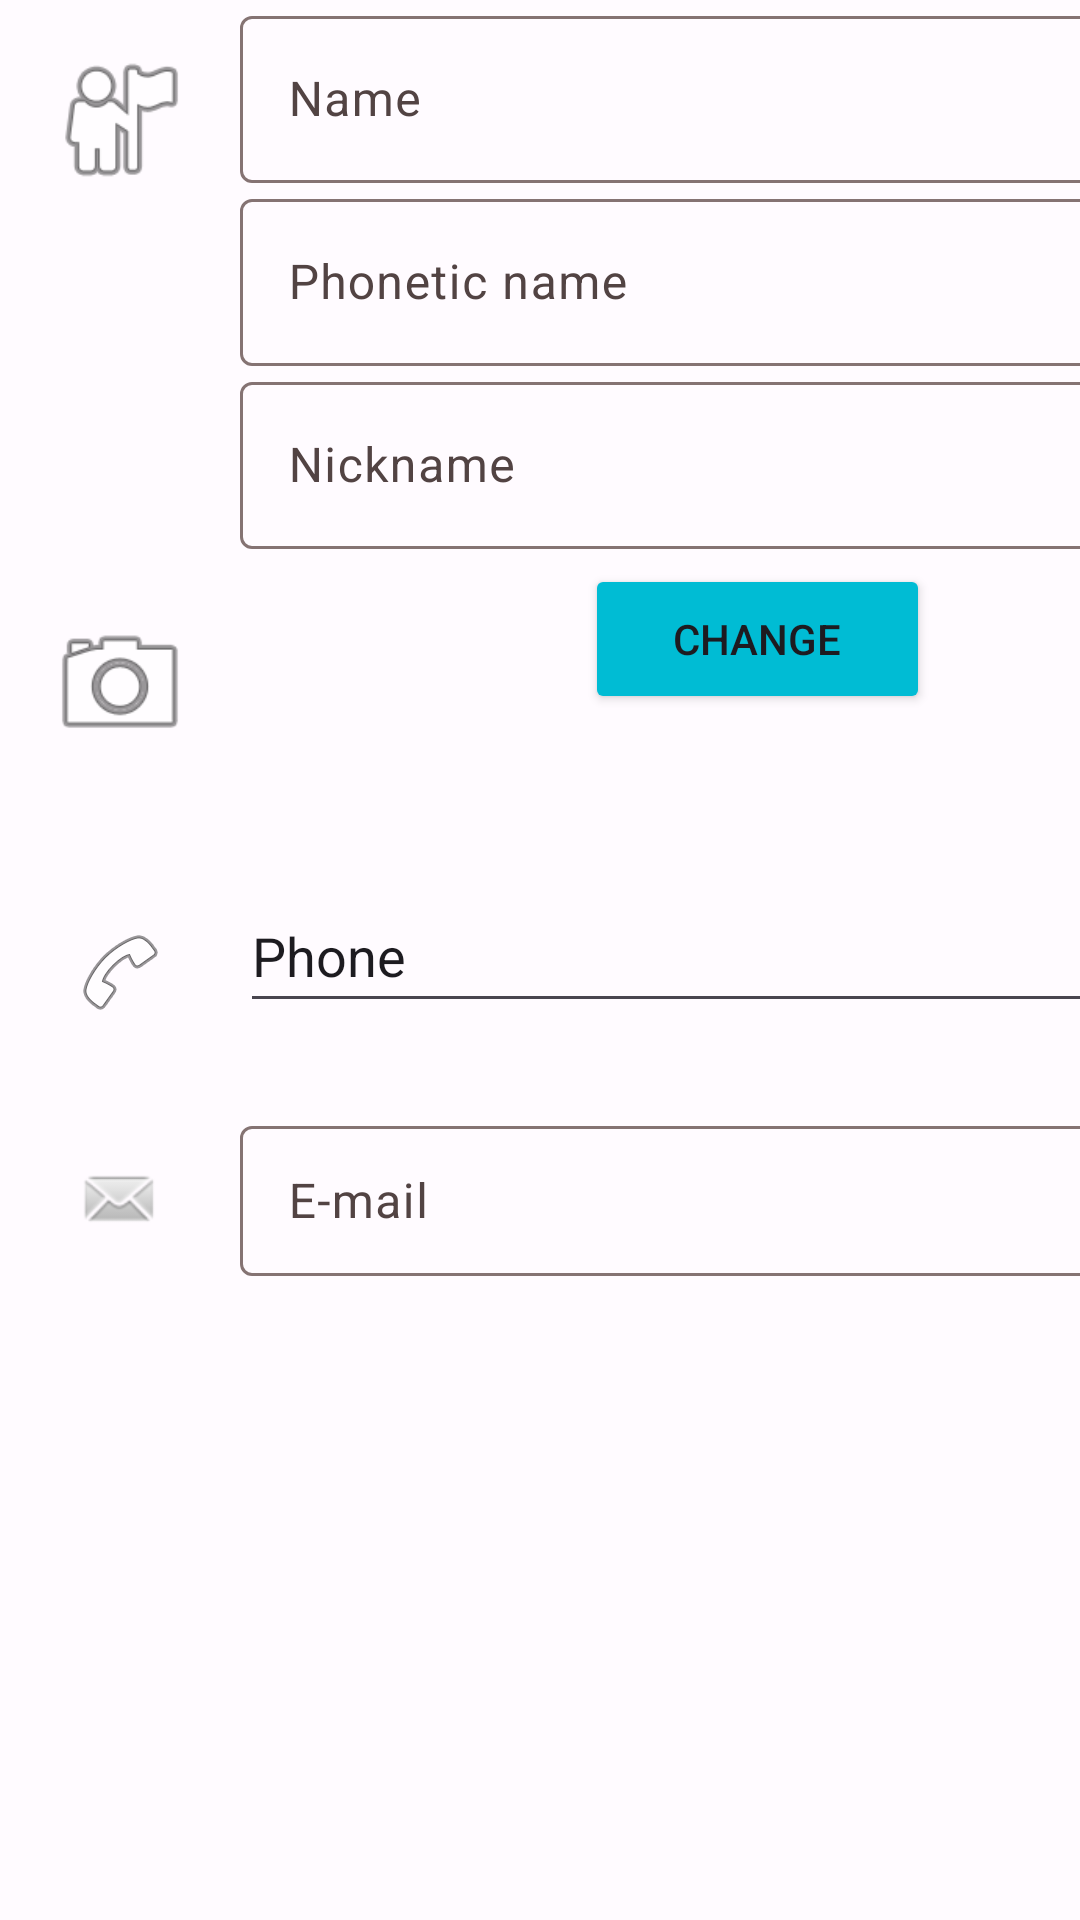

Where to tap for icons on this 1080×1920 app screen, as (x,y):
call: (120,972)
camera: (120,681)
myplaces: (121,120)
